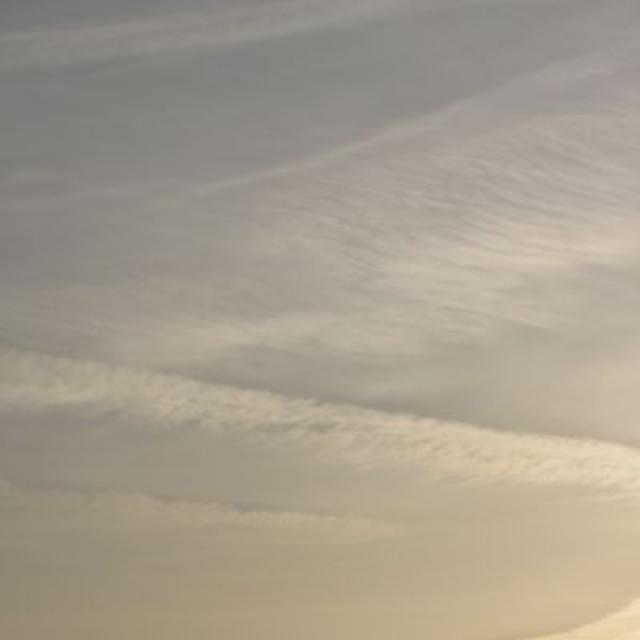Ct: (1, 72, 640, 575)
